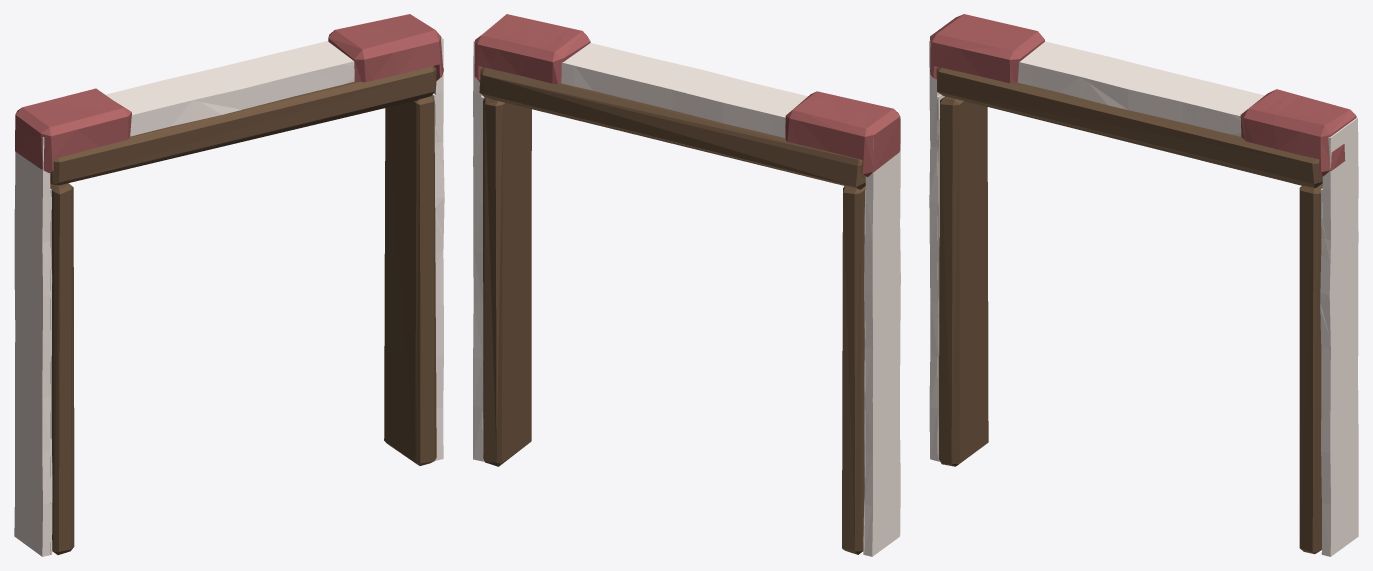
File: PKF_PKX_Wall_Garage_v2.fbx
The picture shows the model from 3 angles, left to right: view 1: azimuth 30°, elevation 25°; view 2: azimuth 150°, elevation 25°; view 3: azimuth 330°, elevation 25°; orthographic projection.
Visible parts, largest first — view 1: PKX_Wall_Garage_Chunk_18, PKX_Wall_Garage_Chunk_01, PKX_Wall_Garage_Chunk_19, PKX_Wall_Garage_Chunk_17, PKX_Wall_Garage_Chunk_11, PKX_Wall_Garage_Chunk_00, PKX_Wall_Garage_Chunk_13, PKX_Wall_Garage_Chunk_07, PKX_Wall_Garage_Chunk_06, PKX_Wall_Garage_Chunk_08, PKX_Wall_Garage_Chunk_09, PKX_Wall_Garage_Chunk_15 (+8 smaller); view 2: PKX_Wall_Garage_Chunk_18, PKX_Wall_Garage_Chunk_01, PKX_Wall_Garage_Chunk_19, PKX_Wall_Garage_Chunk_17, PKX_Wall_Garage_Chunk_00, PKX_Wall_Garage_Chunk_11, PKX_Wall_Garage_Chunk_13, PKX_Wall_Garage_Chunk_07, PKX_Wall_Garage_Chunk_08, PKX_Wall_Garage_Chunk_06, PKX_Wall_Garage_Chunk_09, PKX_Wall_Garage_Chunk_15 (+8 smaller); view 3: PKX_Wall_Garage_Chunk_17, PKX_Wall_Garage_Chunk_19, PKX_Wall_Garage_Chunk_00, PKX_Wall_Garage_Chunk_18, PKX_Wall_Garage_Chunk_03, PKX_Wall_Garage_Chunk_01, PKX_Wall_Garage_Chunk_02, PKX_Wall_Garage_Chunk_11, PKX_Wall_Garage_Chunk_12, PKX_Wall_Garage_Chunk_07, PKX_Wall_Garage_Chunk_06, PKX_Wall_Garage_Chunk_08 (+8 smaller).
Boxes of the visible parts, left/top/right/bottom form: PKX_Wall_Garage_Chunk_18: left=384, top=96, right=436, bottom=465; PKX_Wall_Garage_Chunk_01: left=14, top=107, right=53, bottom=556; PKX_Wall_Garage_Chunk_19: left=50, top=66, right=436, bottom=185; PKX_Wall_Garage_Chunk_17: left=50, top=183, right=74, bottom=554; PKX_Wall_Garage_Chunk_11: left=45, top=91, right=116, bottom=150; PKX_Wall_Garage_Chunk_00: left=435, top=210, right=443, bottom=460; PKX_Wall_Garage_Chunk_13: left=319, top=27, right=377, bottom=84; PKX_Wall_Garage_Chunk_07: left=208, top=60, right=274, bottom=110; PKX_Wall_Garage_Chunk_06: left=173, top=70, right=239, bottom=119; PKX_Wall_Garage_Chunk_08: left=247, top=51, right=311, bottom=101; PKX_Wall_Garage_Chunk_09: left=284, top=43, right=346, bottom=92; PKX_Wall_Garage_Chunk_15: left=361, top=18, right=424, bottom=74; PKX_Wall_Garage_Chunk_18: left=483, top=97, right=531, bottom=466; PKX_Wall_Garage_Chunk_01: left=862, top=108, right=900, bottom=556; PKX_Wall_Garage_Chunk_19: left=479, top=67, right=865, bottom=189; PKX_Wall_Garage_Chunk_17: left=842, top=185, right=865, bottom=554; PKX_Wall_Garage_Chunk_00: left=473, top=209, right=483, bottom=461; PKX_Wall_Garage_Chunk_11: left=799, top=94, right=870, bottom=151; PKX_Wall_Garage_Chunk_13: left=539, top=28, right=597, bottom=85; PKX_Wall_Garage_Chunk_07: left=642, top=62, right=708, bottom=111; PKX_Wall_Garage_Chunk_08: left=605, top=53, right=669, bottom=102; PKX_Wall_Garage_Chunk_06: left=677, top=71, right=742, bottom=121; PKX_Wall_Garage_Chunk_09: left=571, top=44, right=632, bottom=93; PKX_Wall_Garage_Chunk_15: left=493, top=19, right=556, bottom=75; PKX_Wall_Garage_Chunk_17: left=939, top=96, right=988, bottom=466; PKX_Wall_Garage_Chunk_19: left=936, top=67, right=1322, bottom=187; PKX_Wall_Garage_Chunk_00: left=1320, top=303, right=1358, bottom=556; PKX_Wall_Garage_Chunk_18: left=1299, top=183, right=1322, bottom=554; PKX_Wall_Garage_Chunk_03: left=1318, top=109, right=1358, bottom=263; PKX_Wall_Garage_Chunk_01: left=929, top=14, right=964, bottom=461; PKX_Wall_Garage_Chunk_02: left=1320, top=188, right=1358, bottom=338; PKX_Wall_Garage_Chunk_11: left=958, top=19, right=1027, bottom=80; PKX_Wall_Garage_Chunk_12: left=998, top=29, right=1058, bottom=84; PKX_Wall_Garage_Chunk_07: left=1121, top=67, right=1188, bottom=117; PKX_Wall_Garage_Chunk_06: left=1085, top=58, right=1148, bottom=109; PKX_Wall_Garage_Chunk_08: left=1161, top=77, right=1224, bottom=125.
Size of the model in its own units: 201 by 205 by 31.83.
